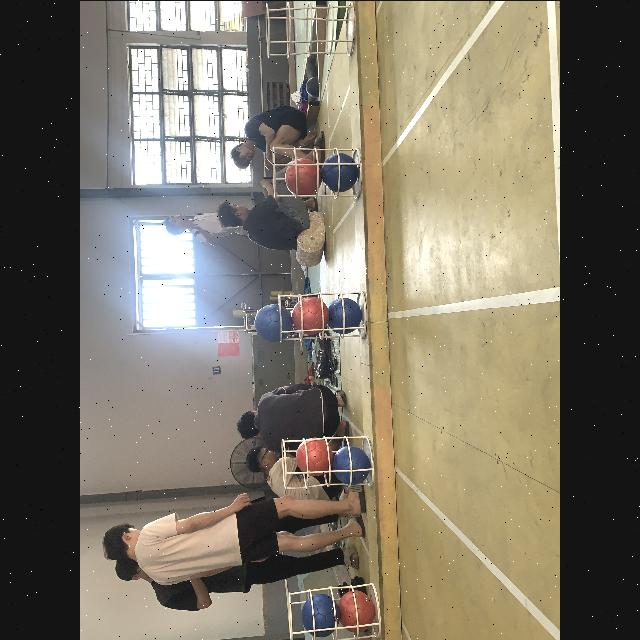B: (303, 592, 342, 636), (322, 150, 360, 192), (334, 445, 371, 485), (255, 303, 293, 341), (328, 296, 362, 334)
R: (338, 588, 377, 630), (284, 158, 324, 196), (291, 296, 331, 334), (296, 437, 334, 475)
